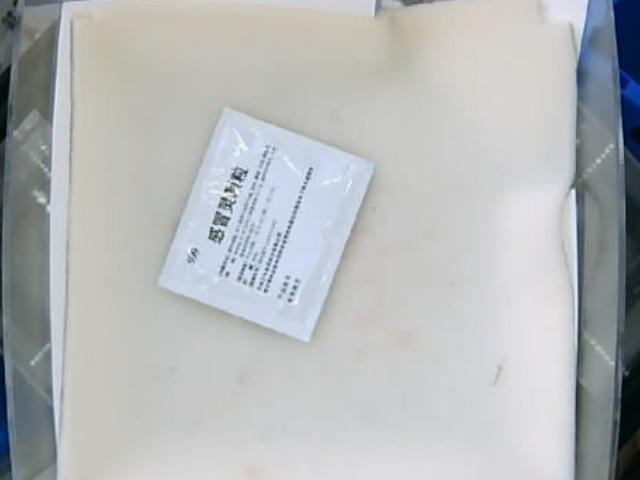Medicine: (158, 106, 377, 344)
